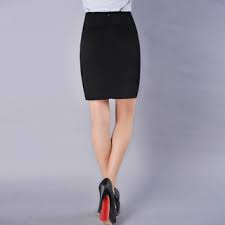F_tailored skirt: (73, 9, 151, 105)
